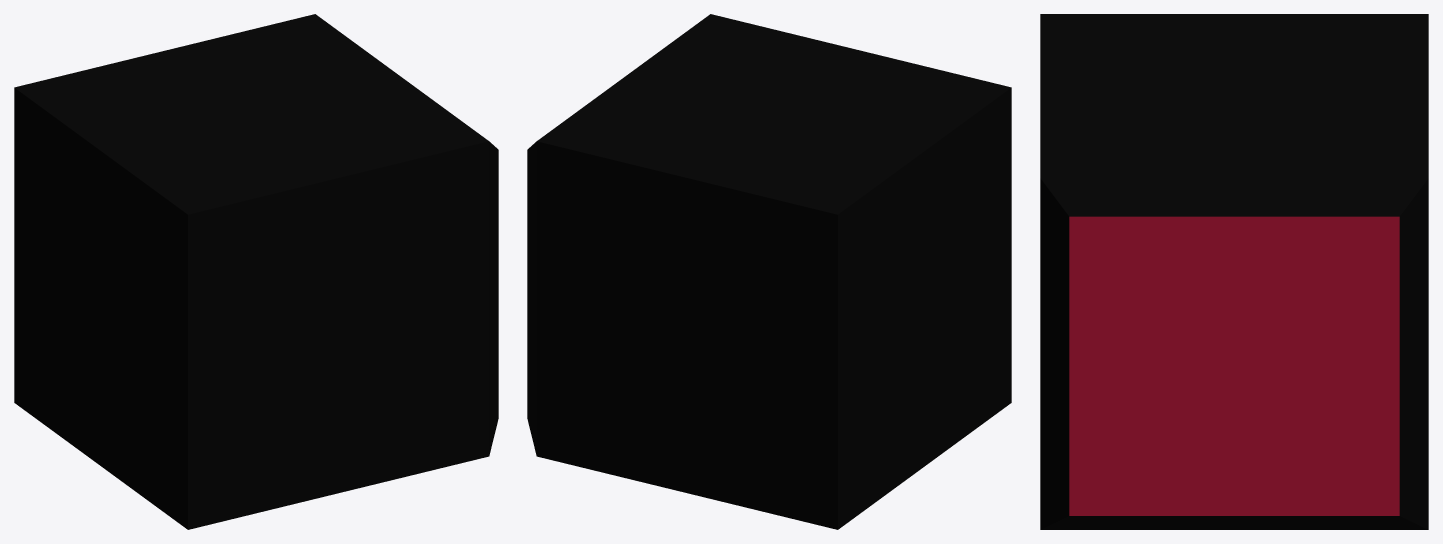
File: rubiks_cube_23.glb
3 renders of one model, left to right at view 1: azimuth 30°, elevation 25°; view 2: azimuth 150°, elevation 25°; view 3: azimuth 270°, elevation 25°, orthographic. The views are drawn at different scales.
Parts seen in each view (by area): view 1: Cube23.001; view 2: Cube23.001; view 3: Cube23.001.
Part boxes in pixels (left/top/right/bottom): Cube23.001: left=14, top=14, right=498, bottom=529; Cube23.001: left=527, top=14, right=1011, bottom=529; Cube23.001: left=1040, top=14, right=1428, bottom=529.
Size of the model in its own units: 2.15 by 2 by 2.
